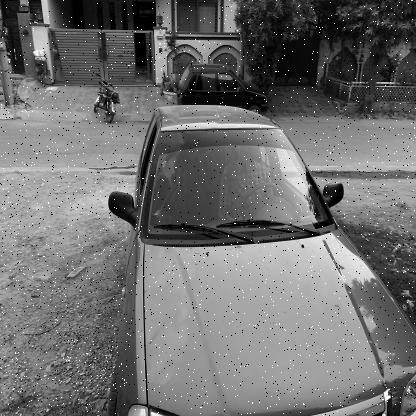no_seatbelt: (235, 148, 268, 208)
